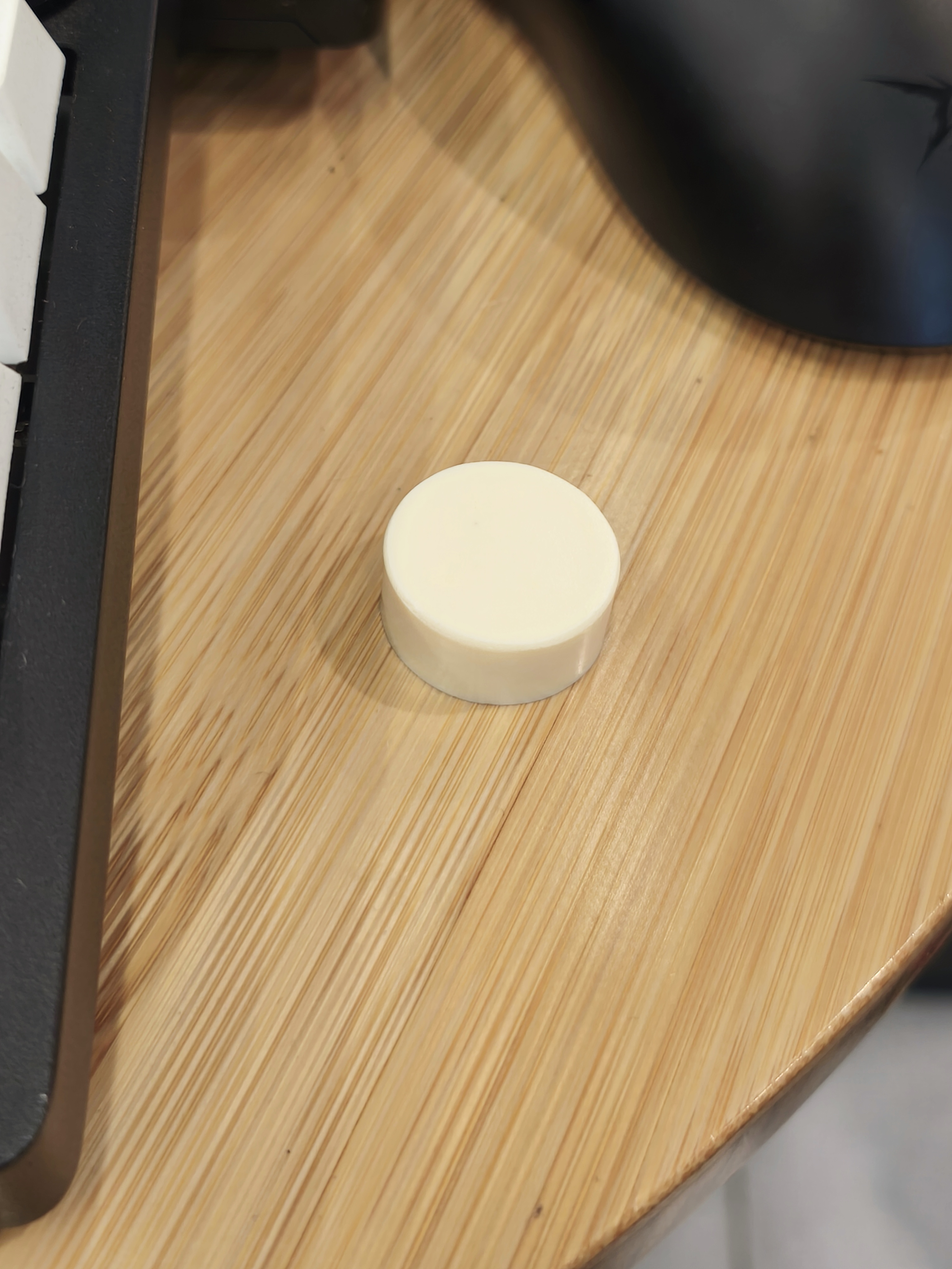chesspiece: (366, 451, 626, 707)
